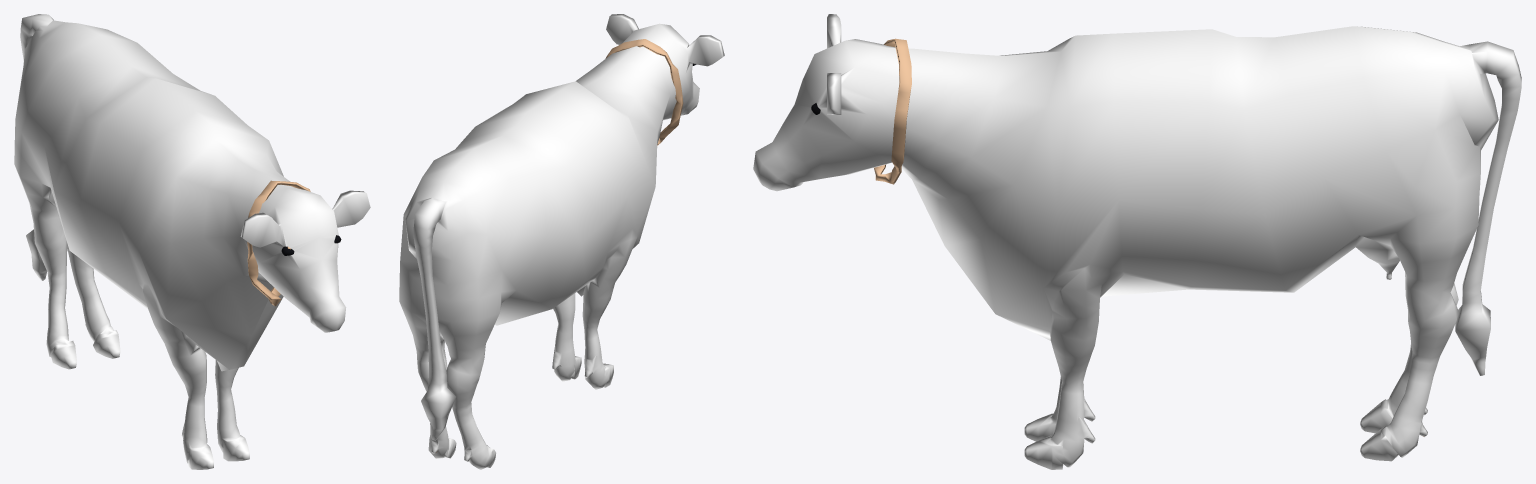
The model's file is cow.glb.
3 views of the same model, side by side, from view 1: azimuth 30°, elevation 25°; view 2: azimuth 150°, elevation 25°; view 3: azimuth 270°, elevation 25° (orthographic). The views are drawn at different scales.
Bounding box in the file's own units: 0.5075 × 1.02 × 1.65.
Materials: 1 (1 with a texture image).
